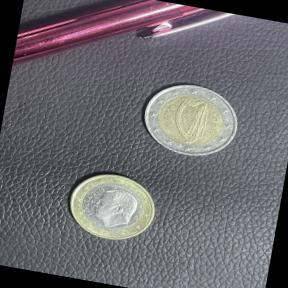coin: (130, 71, 247, 167), (57, 164, 165, 250)
